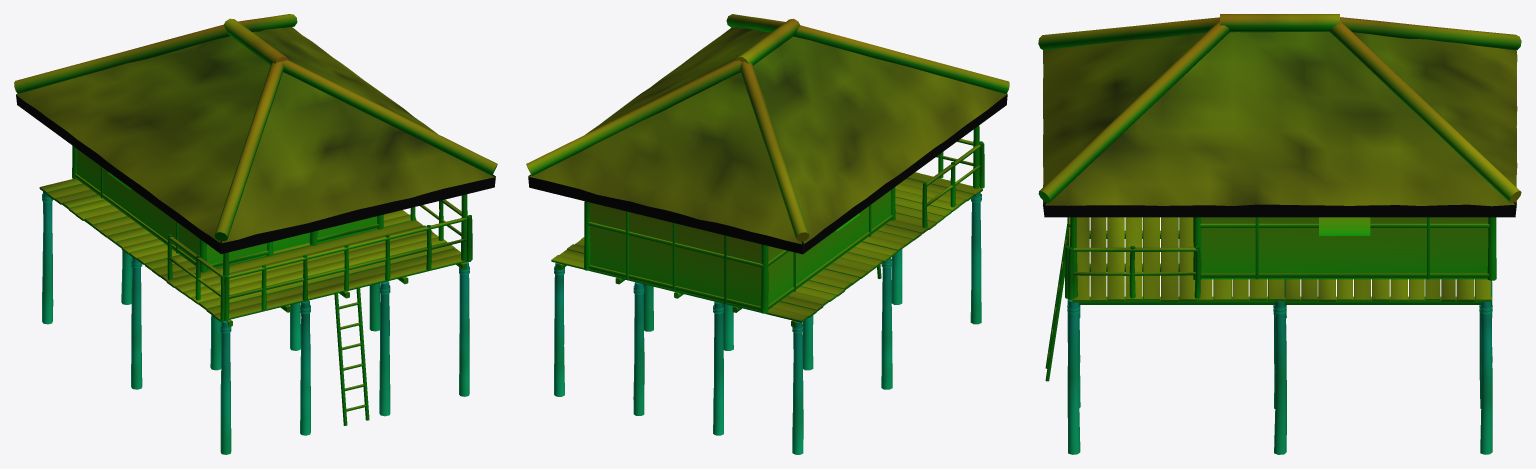
File: stilt_house.glb
The picture shows the model from 3 angles, left to right: view 1: azimuth 30°, elevation 25°; view 2: azimuth 150°, elevation 25°; view 3: azimuth 270°, elevation 25°; orthographic projection. The views are drawn at different scales.
Parts seen in each view (by area): view 1: stilt_house; view 2: stilt_house; view 3: stilt_house.
Boxes of the visible parts, <box> form: stilt_house: <box>14,14,497,454</box>; stilt_house: <box>526,14,1009,454</box>; stilt_house: <box>1038,14,1521,454</box>.
Size of what is drawn, in the model's own units: 6.4 by 6.95 by 8.21.
